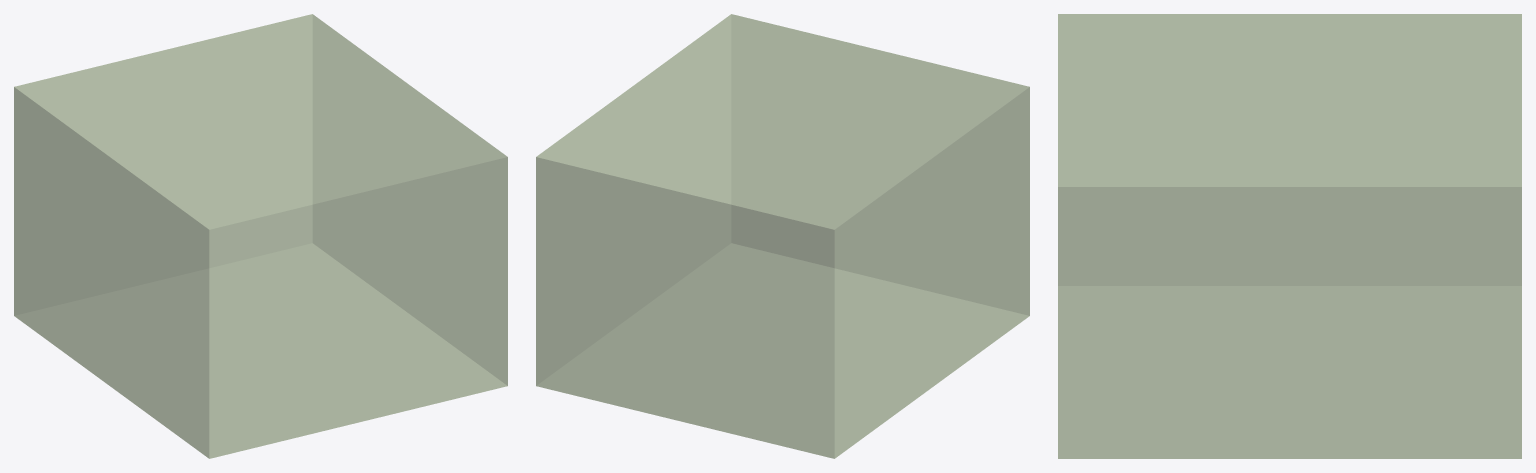
File: blockout.glb
The picture shows the model from 3 angles, left to right: view 1: azimuth 30°, elevation 25°; view 2: azimuth 150°, elevation 25°; view 3: azimuth 270°, elevation 25°; orthographic projection. The views are drawn at different scales.
Visible parts, largest first — view 1: U13_ENVELOPE_NOT_FINAL_MESH; view 2: U13_ENVELOPE_NOT_FINAL_MESH; view 3: U13_ENVELOPE_NOT_FINAL_MESH.
Boxes of the visible parts, box(x1,y1,x2,y2) form: U13_ENVELOPE_NOT_FINAL_MESH: box(14, 14, 507, 458); U13_ENVELOPE_NOT_FINAL_MESH: box(536, 14, 1029, 458); U13_ENVELOPE_NOT_FINAL_MESH: box(1058, 14, 1521, 458).
Bounding box in the file's own units: 1.5 × 1.1 × 1.7.
